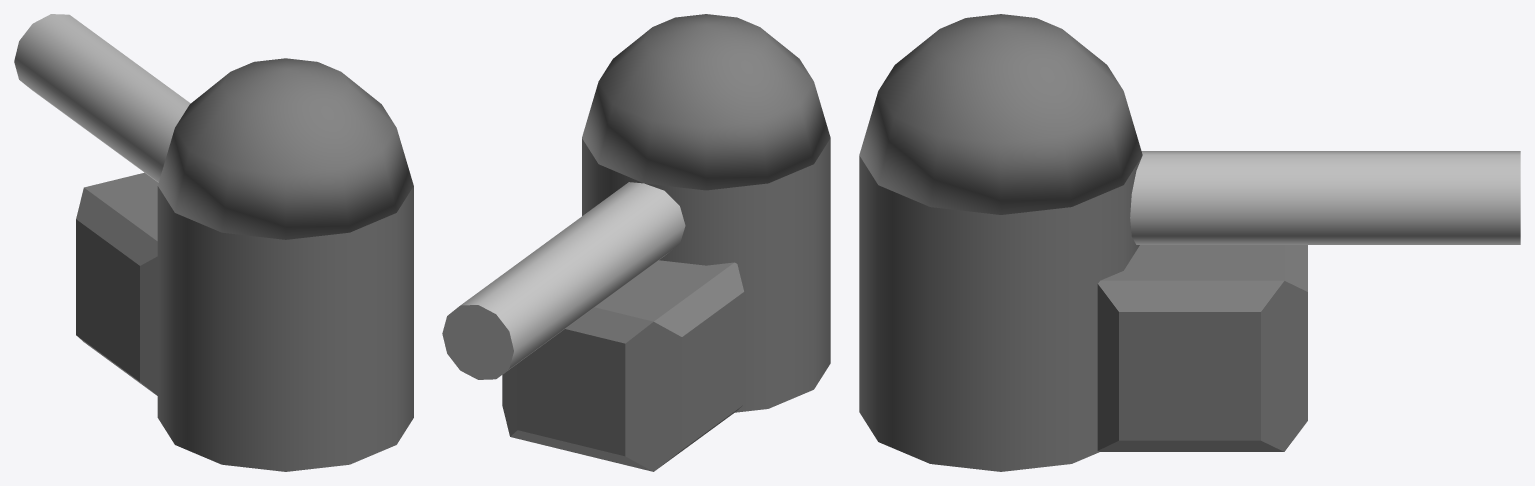
Rendered from Acid sprayer.fbx.
3 renders of one model, left to right at view 1: azimuth 30°, elevation 25°; view 2: azimuth 150°, elevation 25°; view 3: azimuth 270°, elevation 25°, orthographic. The views are drawn at different scales.
Visible parts, largest first — view 1: Cylinder001; view 2: Cylinder001; view 3: Cylinder001.
Part boxes in pixels (x1,y1,x2,y2): Cylinder001: [14, 14, 413, 471]; Cylinder001: [442, 14, 830, 471]; Cylinder001: [859, 14, 1520, 471].
Bounding box in the file's own units: 60 × 140 × 90.
Materials: 2 (2 with a texture image).
